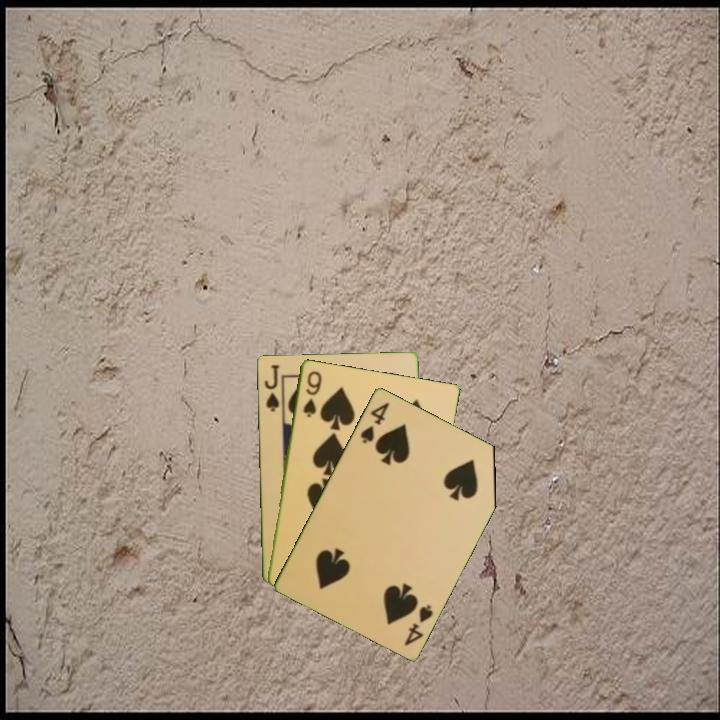4s: (400, 601, 436, 649), (357, 398, 392, 446)
9s: (299, 367, 324, 420)
Js: (261, 361, 282, 414)
